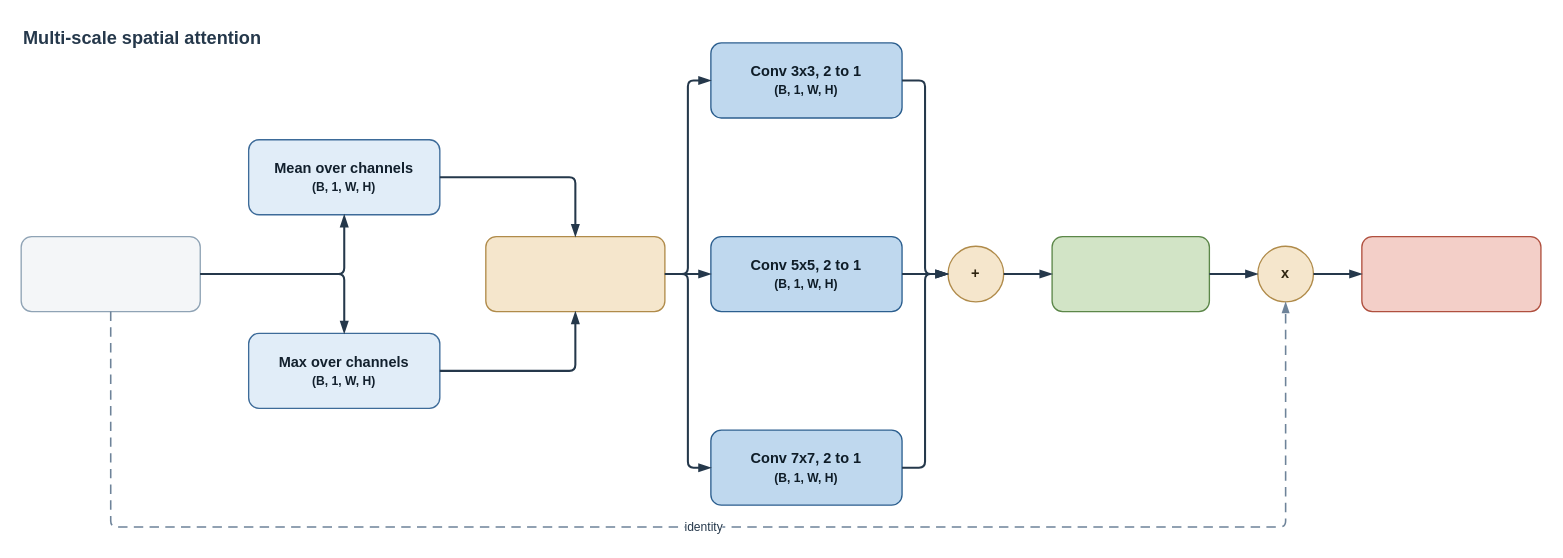
This 1563x558 diagram has some shape labels left out. Here are the shapes that lost their labels. From the top down, the centre of each, then its label:
At point 110,273: "Input feature map (B, C, W, H)".
At point 575,273: "Concat (B, 2, W, H)".
At point 1130,273: "Sigmoid (B, 1, W, H)".
At point 1451,273: "Output (B, C, W, H)".
